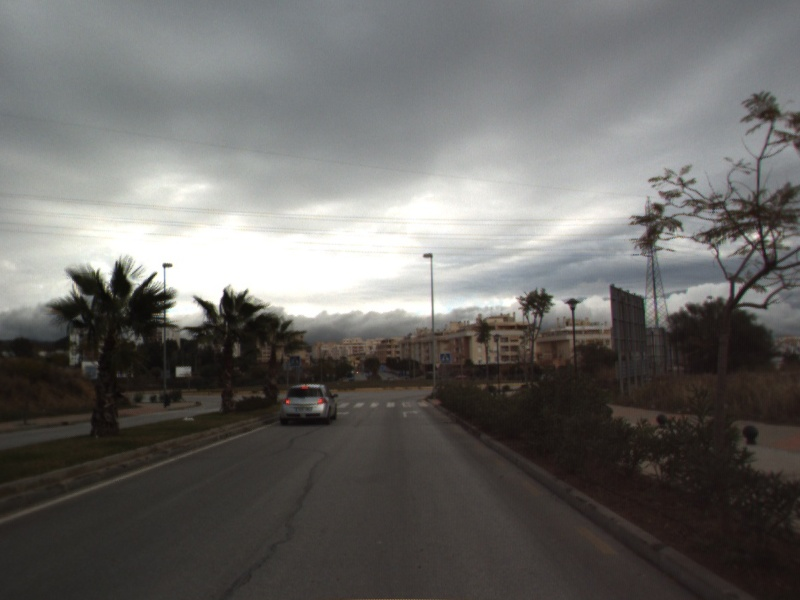RIGHT: (400, 408, 421, 420)
